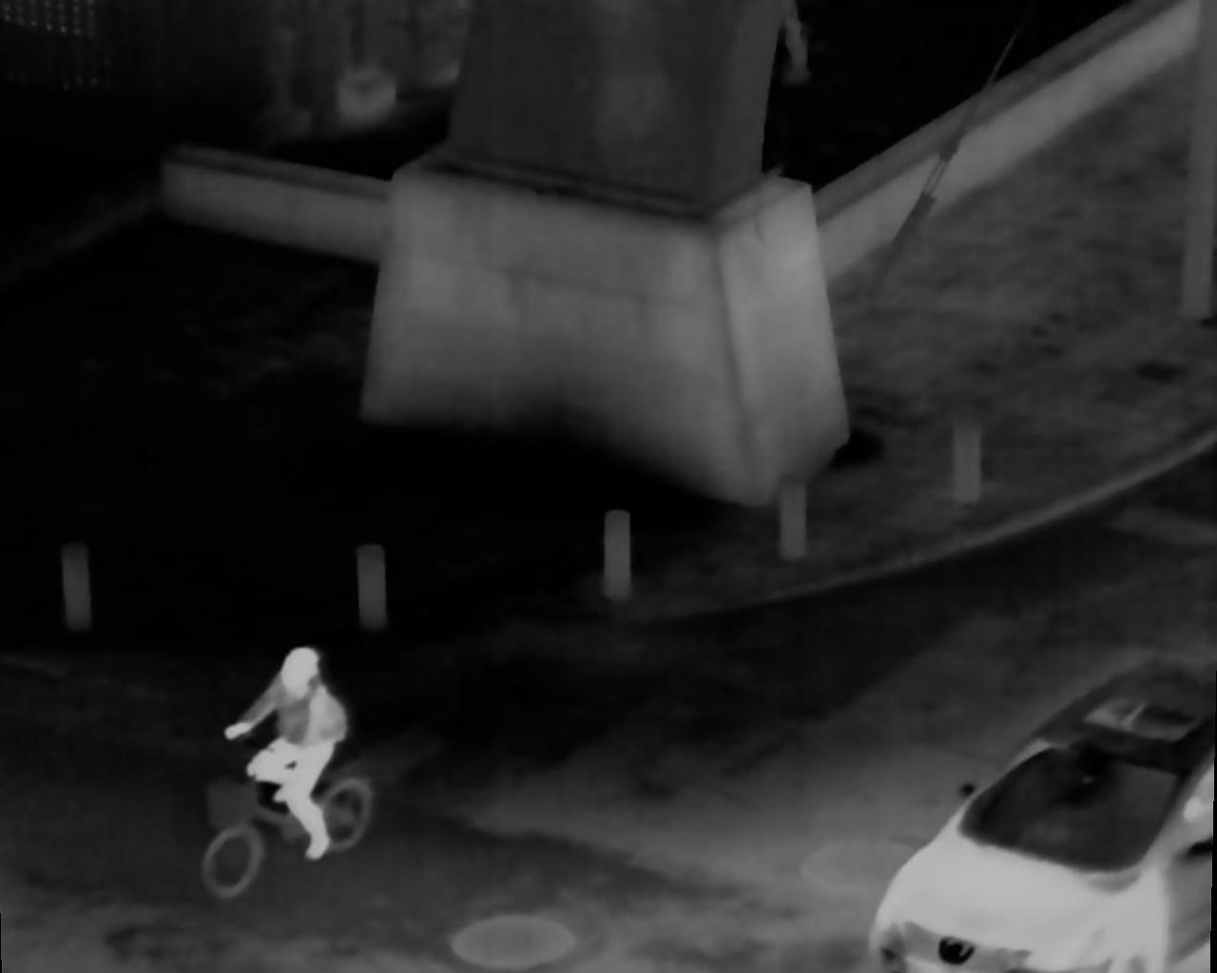person: (235, 641, 356, 876)
